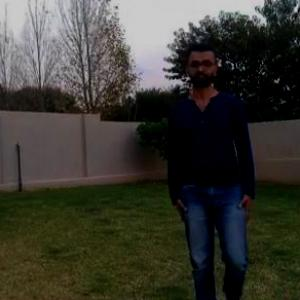follow: (163, 33, 262, 299)
